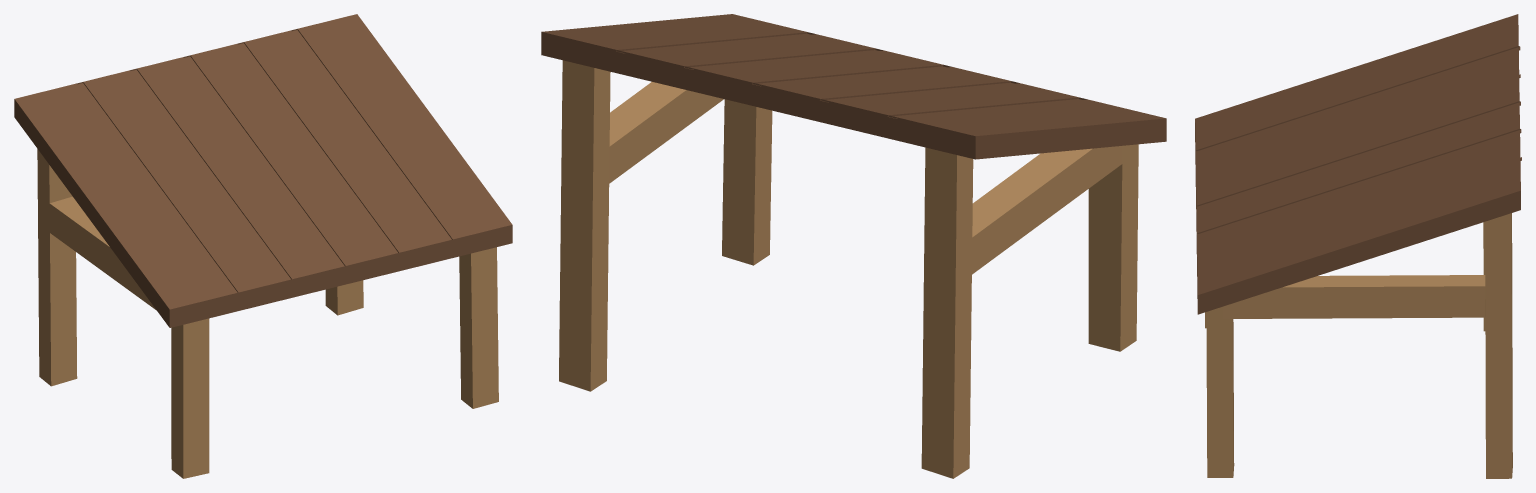
Rendered from factory_stall.fbx.
3 views of the same model, side by side, from view 1: azimuth 30°, elevation 25°; view 2: azimuth 150°, elevation 25°; view 3: azimuth 270°, elevation 25° (orthographic). The views are drawn at different scales.
Parts seen in each view (by area): view 1: Cube.003; view 2: Cube.003; view 3: Cube.003.
Part boxes in pixels (x1,y1,x2,y2): Cube.003: (14, 14, 512, 478); Cube.003: (541, 14, 1166, 478); Cube.003: (1195, 14, 1521, 478).
Size of the model in its own units: 1029 by 799 by 801.
